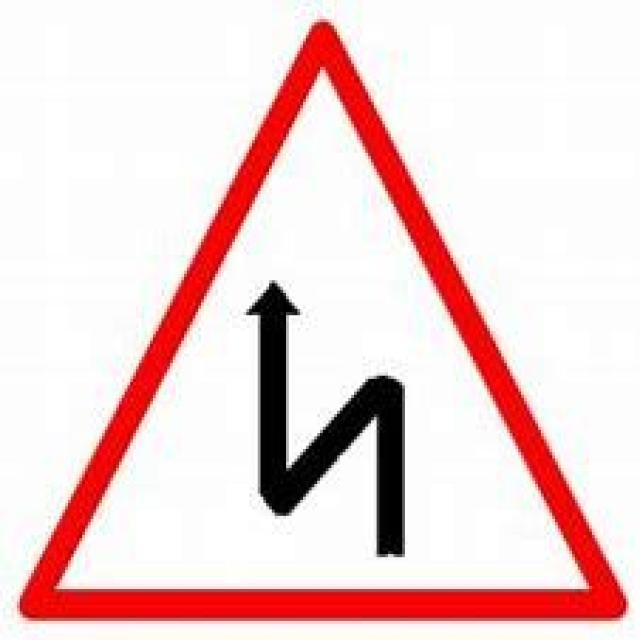left reverse bend: (21, 22, 626, 618)
